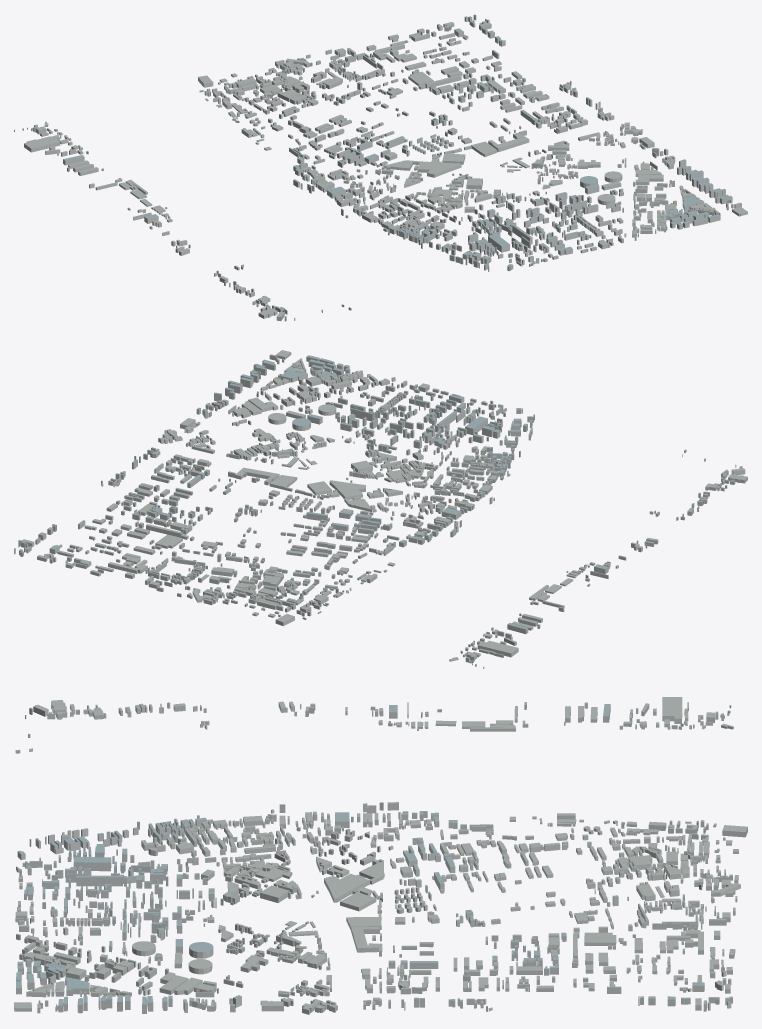
File: far.glb
3 views of the same model, one above another, from view 1: azimuth 30°, elevation 25°; view 2: azimuth 150°, elevation 25°; view 3: azimuth 270°, elevation 25° (orthographic). The views are drawn at different scales.
Bounding box in the file's own units: 2149 × 31.85 × 2132.
